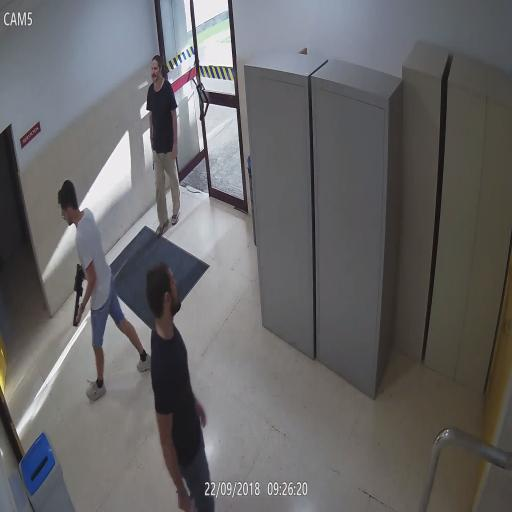Handgun: (176, 488, 203, 512)
